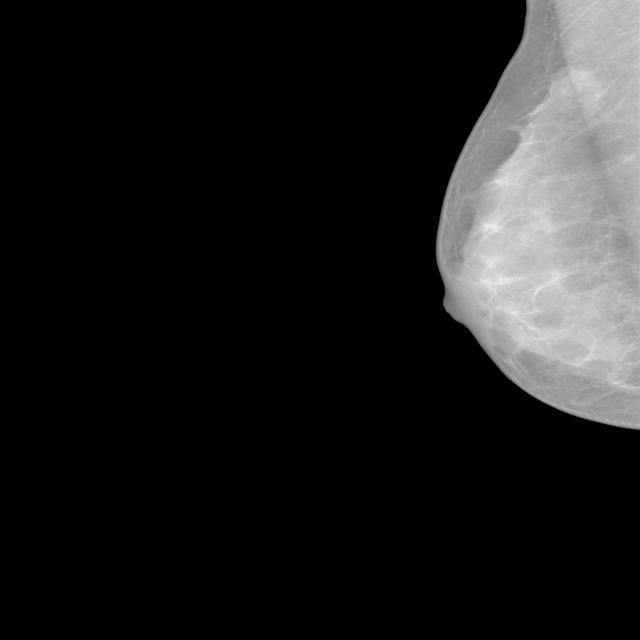Mass_1: (531, 51, 622, 120)
